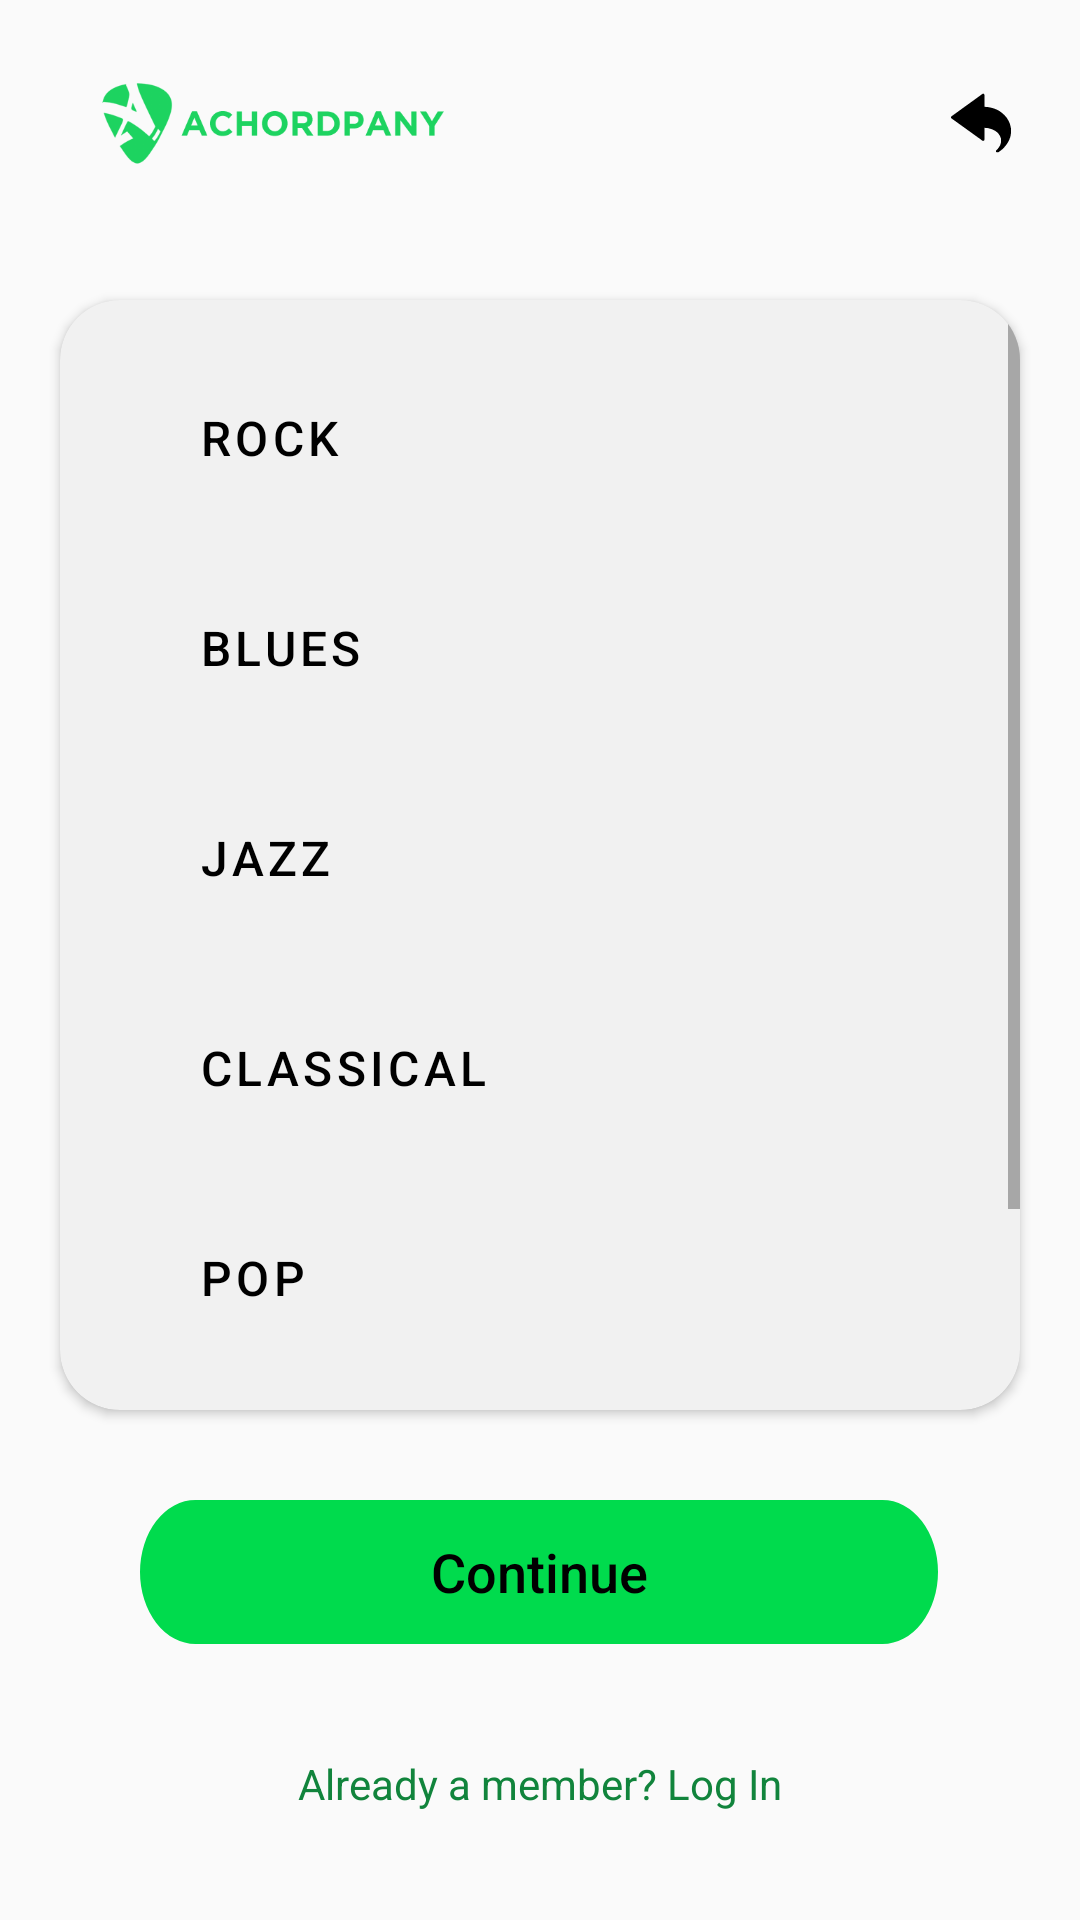

Icons on this 1080x1920 Android screen, each with the point to tap as (x=x, y=y):
Back: (x=981, y=123)
